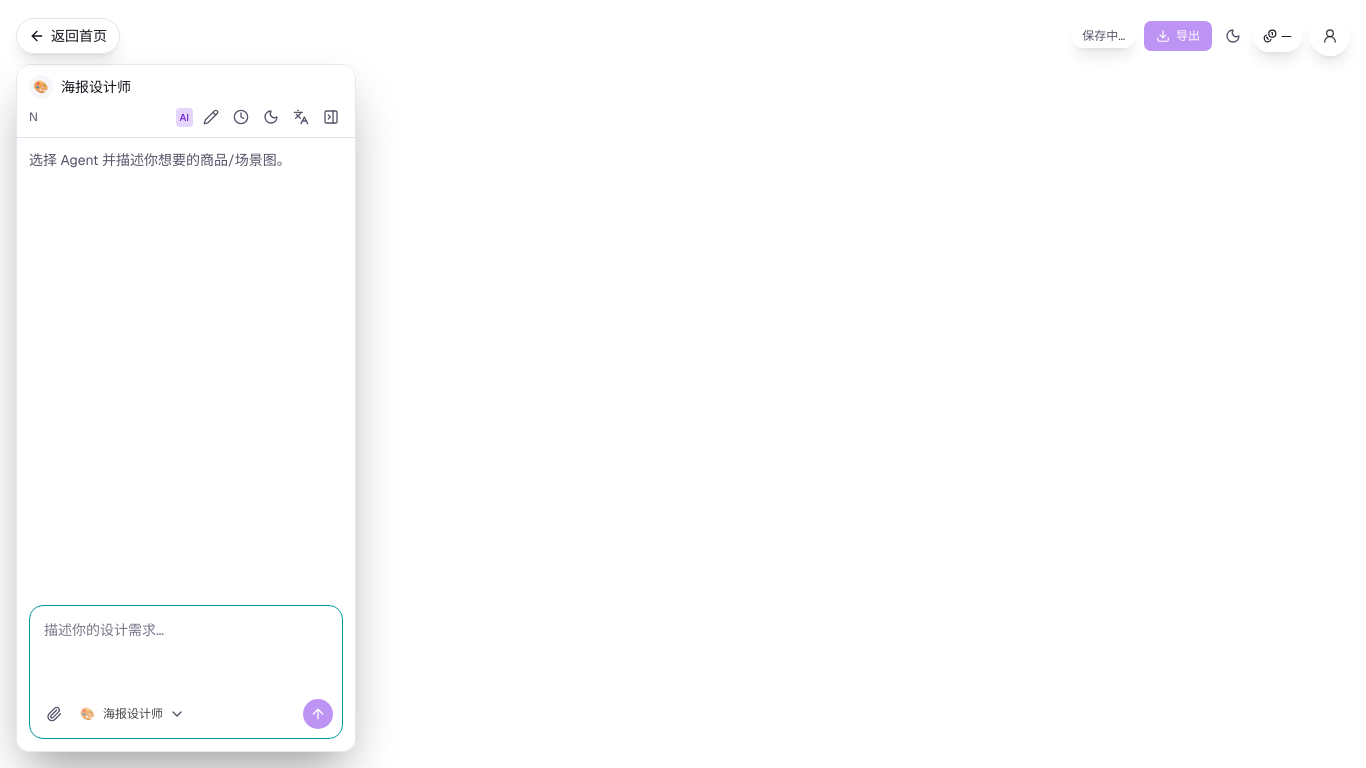
Test: canvas 页：会话引导 bootstrap › 历史会话可从时钟下拉打开并恢复消息
Click the button named "会话历史" at (241, 117), box x1=229 y1=105 x2=253 y2=129
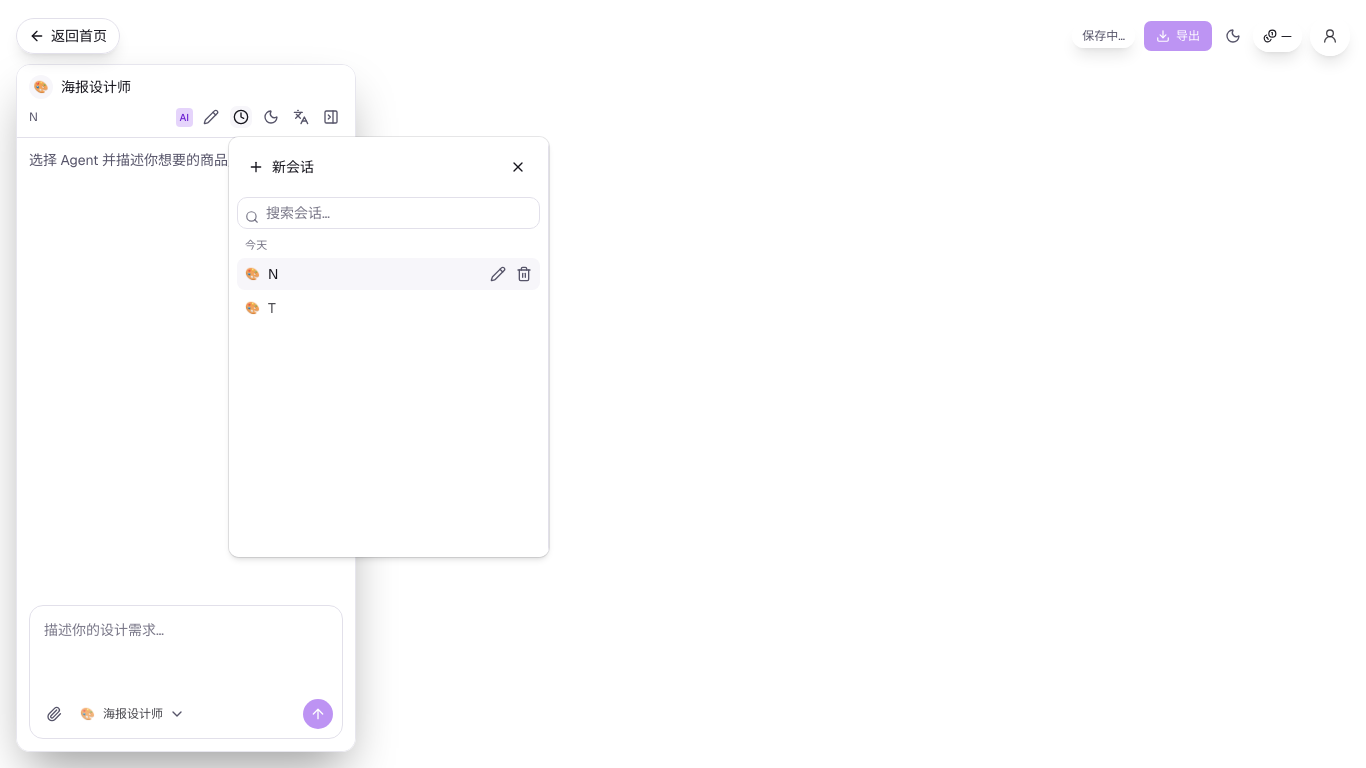
Click the button "🎨 T" at (252, 308), box x1=237 y1=292 x2=540 y2=324
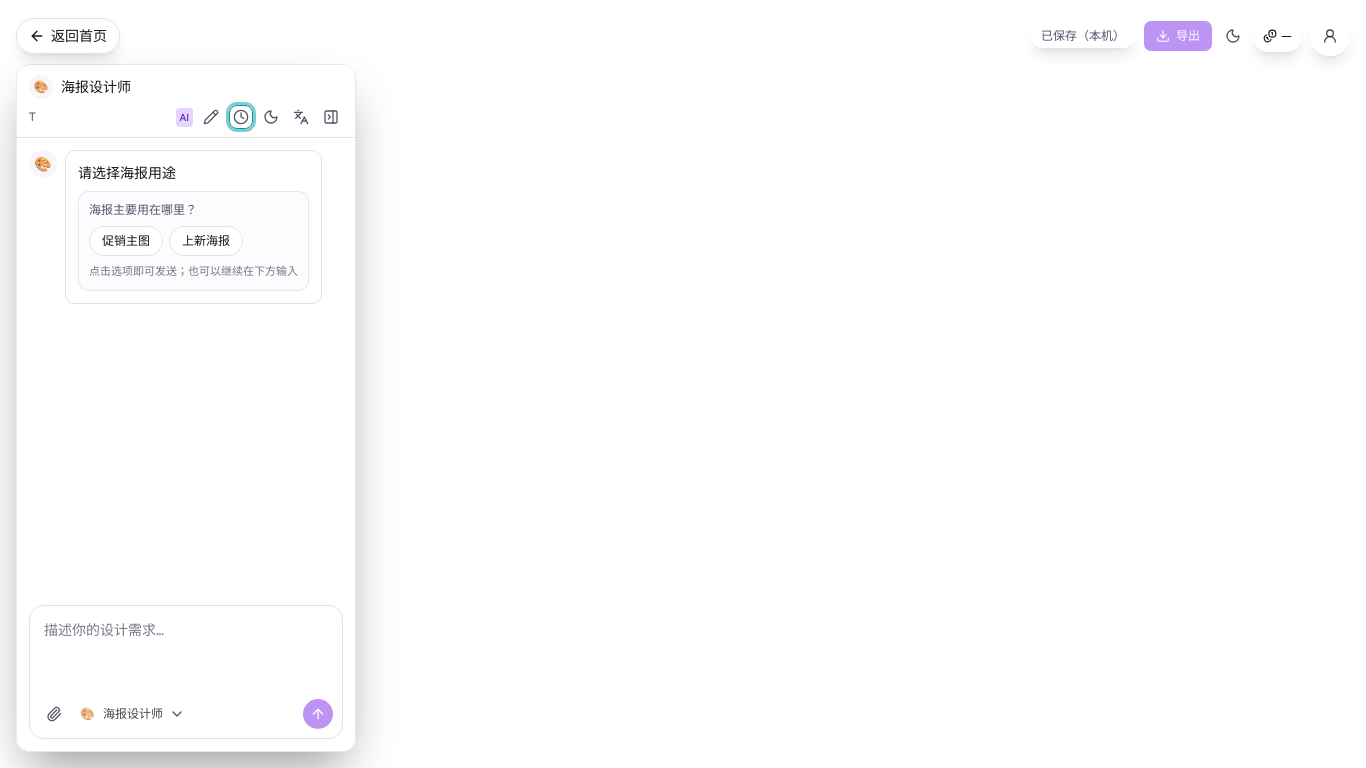
Check: the button "促销主图" is shown, box x1=89 y1=226 x2=163 y2=256
